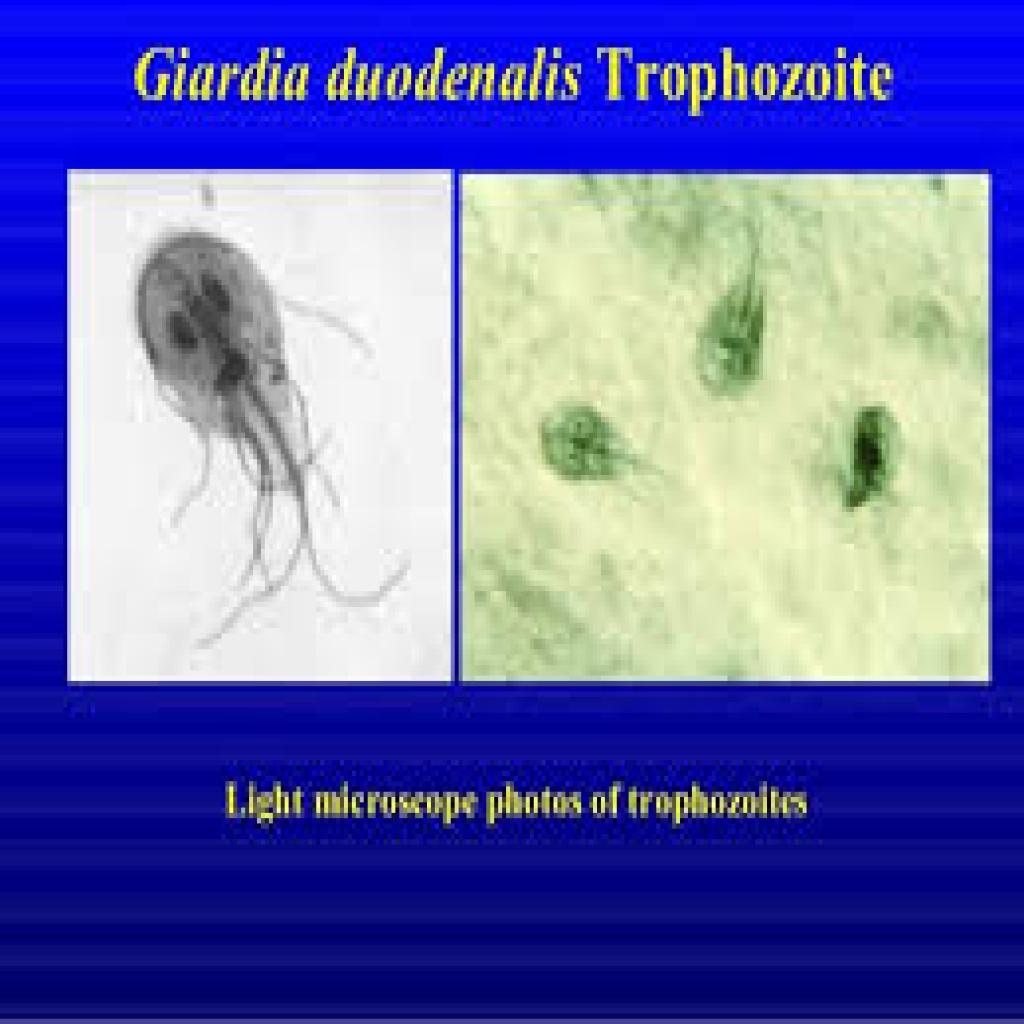Giardia: (131, 222, 411, 618), (534, 396, 672, 501), (688, 248, 767, 407)
